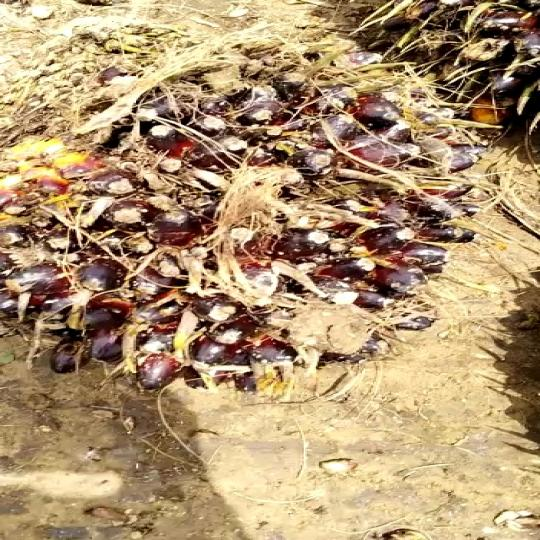mentah: (1, 23, 487, 395)
